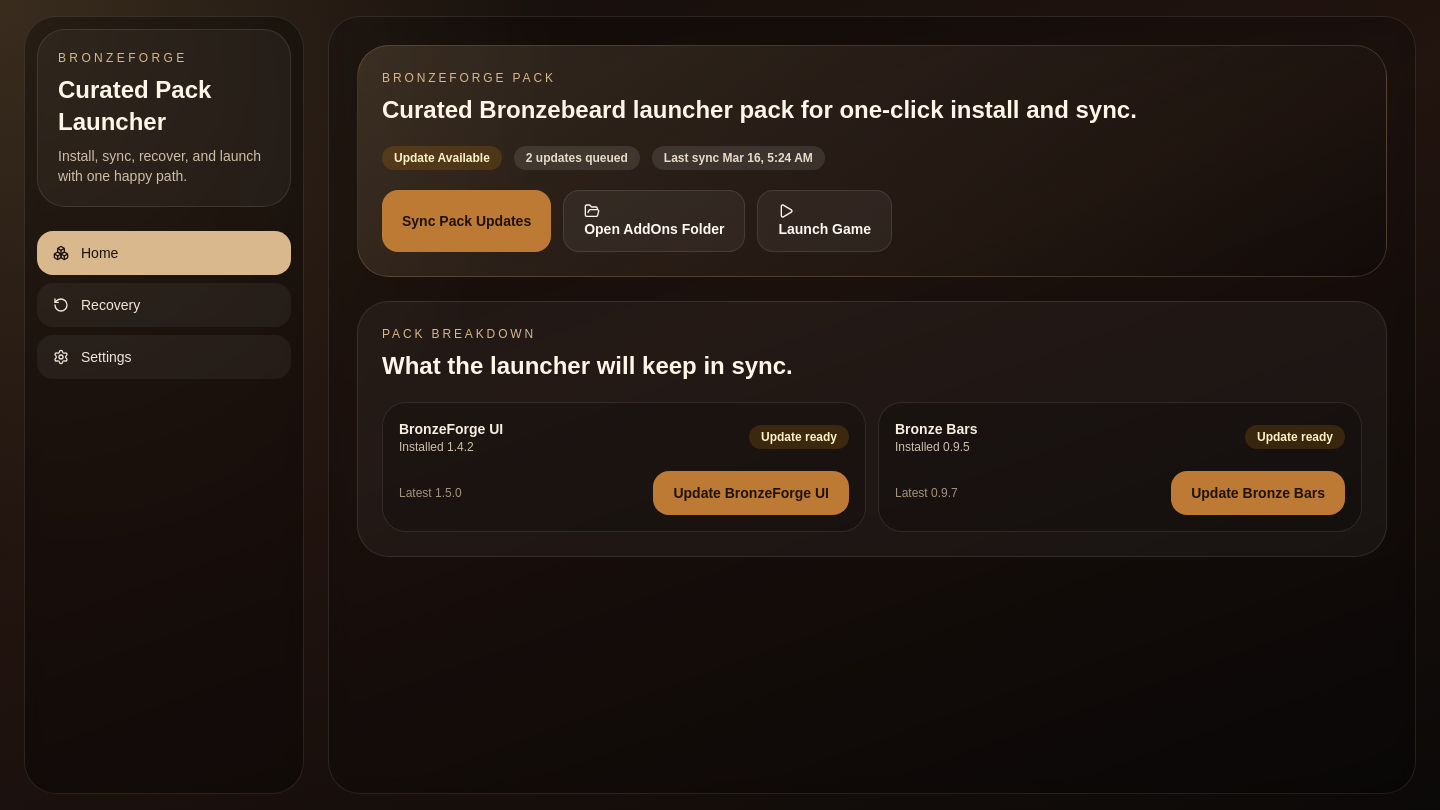
Test: sync failure shows an error banner
Click the button "Sync Pack Updates".
click(467, 221)  # box 382,190 -> 551,252
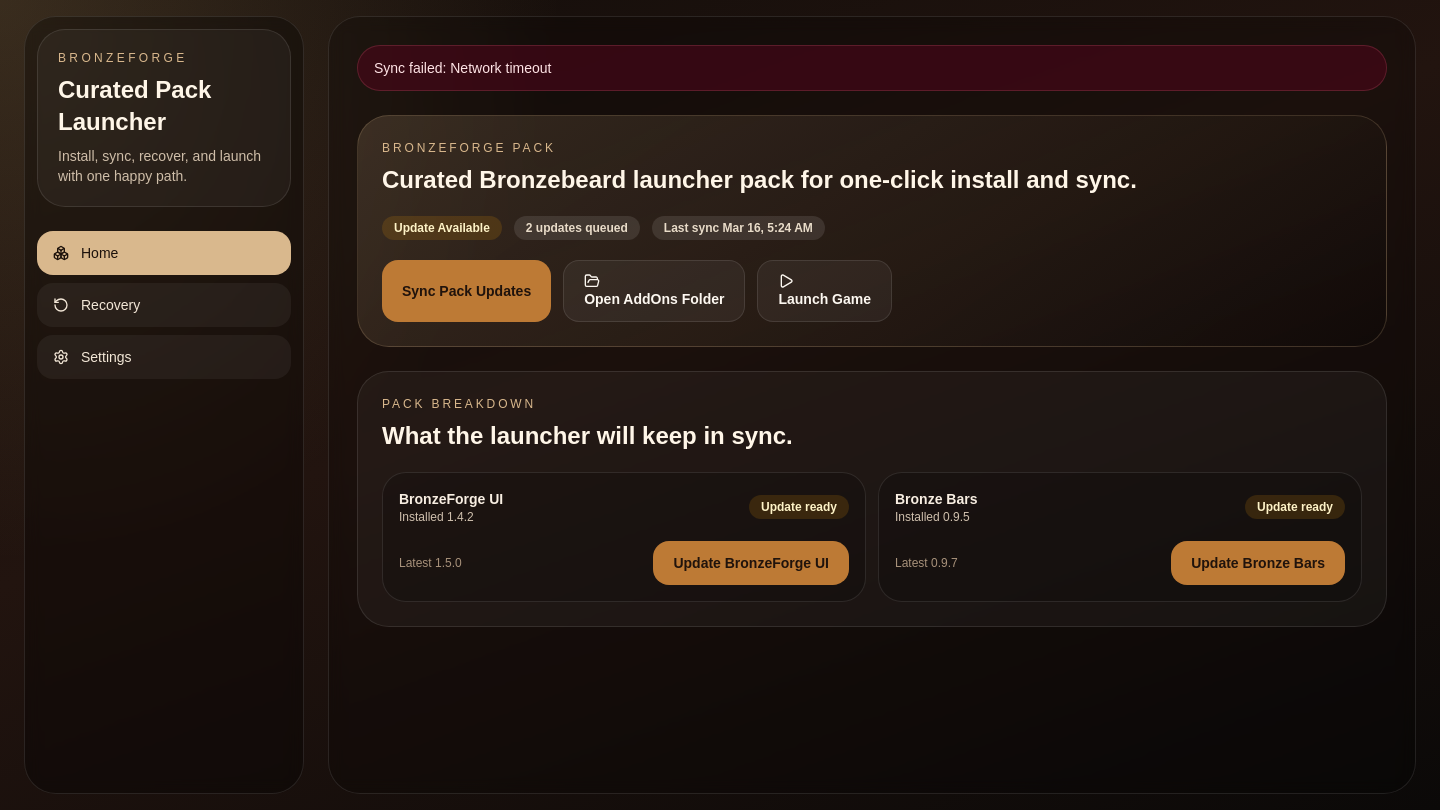
Now the text "Sync failed: Network timeout" is shown, box 357,45 -> 1387,91
